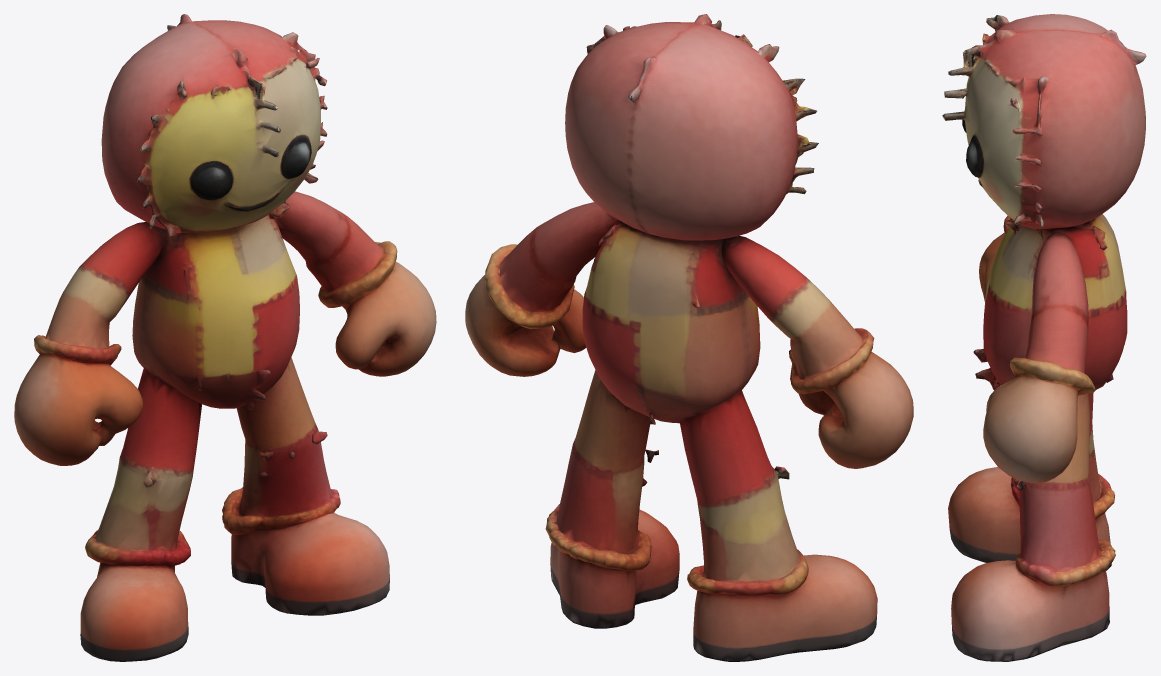
The model's file is trapo.glb.
3 views of the same model, side by side, from view 1: azimuth 30°, elevation 25°; view 2: azimuth 150°, elevation 25°; view 3: azimuth 270°, elevation 25° (orthographic). The views are drawn at different scales.
Parts seen in each view (by area): view 1: geometry_0; view 2: geometry_0; view 3: geometry_0.
Part boxes in pixels (left/top/right/bottom): geometry_0: left=14, top=14, right=436, bottom=661; geometry_0: left=465, top=14, right=913, bottom=661; geometry_0: left=942, top=14, right=1146, bottom=661.
Size of the model in its own units: 0.7697 by 1 by 0.3284.
Materials: 1 (1 with a texture image).
